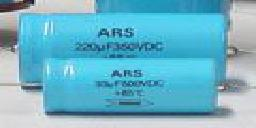Electrolytic Capacitor: (40, 54, 233, 128), (13, 10, 248, 52)
